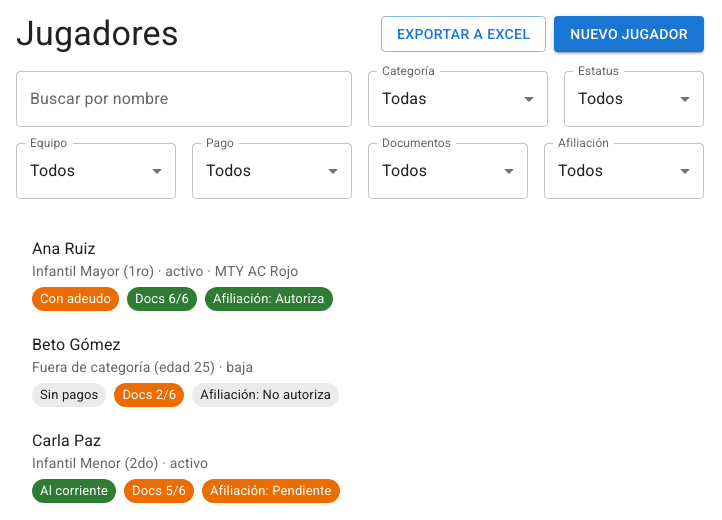
Scenario: search filters the list by name
This screenshot has width=722, height=520.
Expected: the text "Ana Ruiz" is shown, [32,239,96,258]
Step 1. Type "beto" into the field labelled "Buscar por nombre" → point(184, 99), box [16,71,352,127]
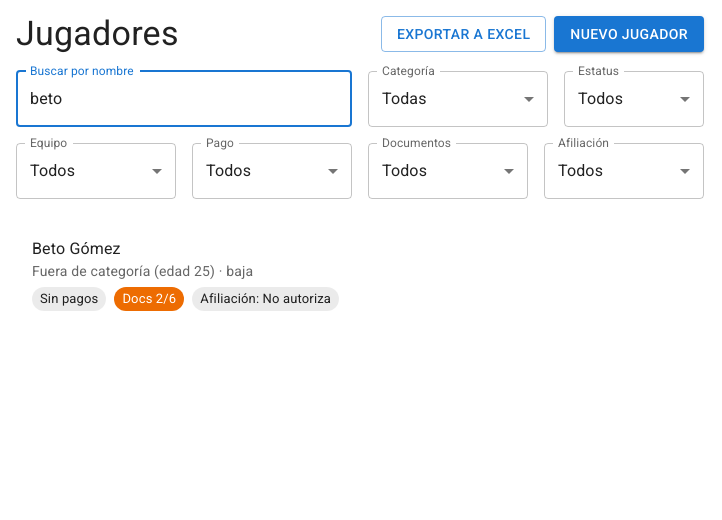
Expected: the text "Beto Gómez" is shown, [32,239,121,258]
Expected: the link "Ana Ruiz" is gone
